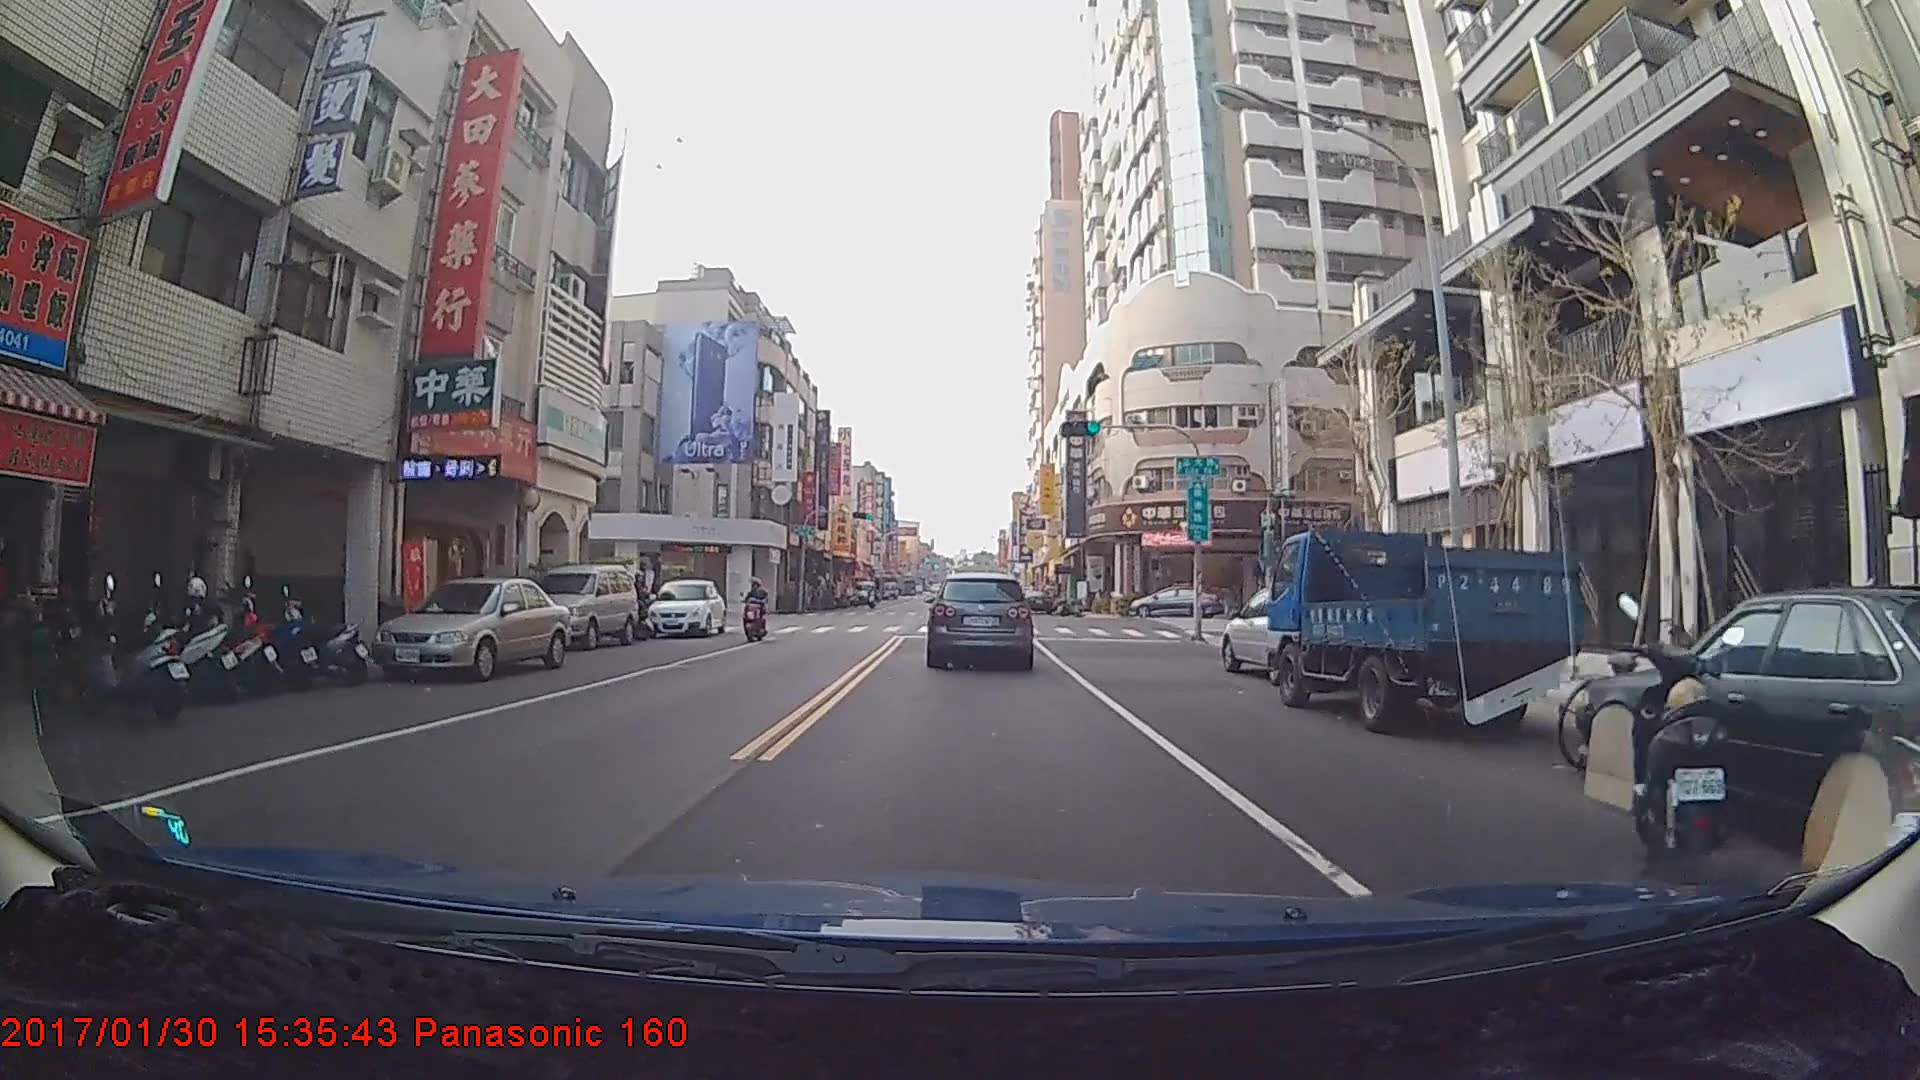rider: (743, 579, 773, 645)
vehicle: (1266, 531, 1581, 732), (365, 574, 572, 681), (1219, 581, 1358, 686), (515, 560, 638, 652), (928, 570, 1032, 668), (647, 578, 727, 638), (1127, 583, 1216, 617), (1021, 586, 1053, 612), (852, 578, 876, 604)
